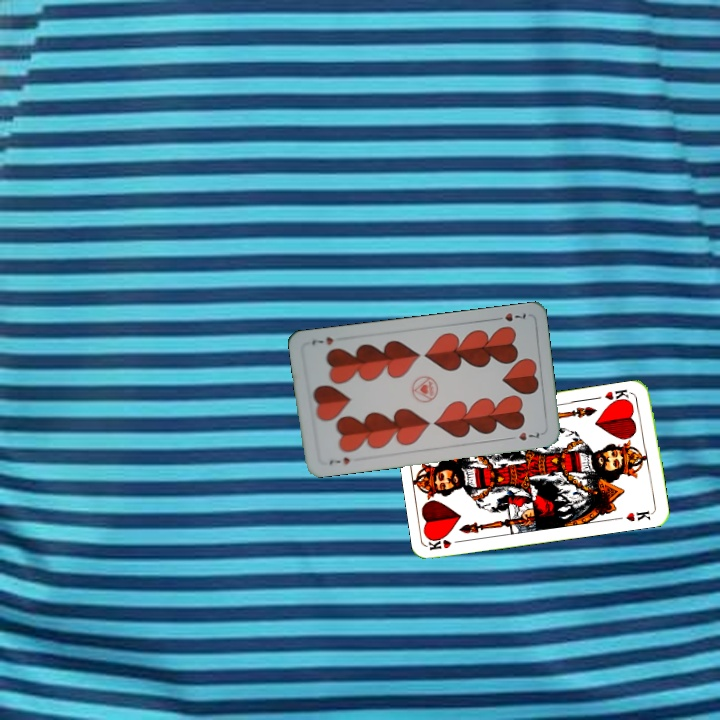H7: (490, 308, 528, 324), (325, 453, 352, 469)
HK: (425, 533, 467, 553), (601, 385, 636, 407)
